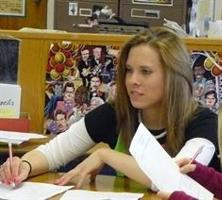person: (2, 29, 219, 191)
